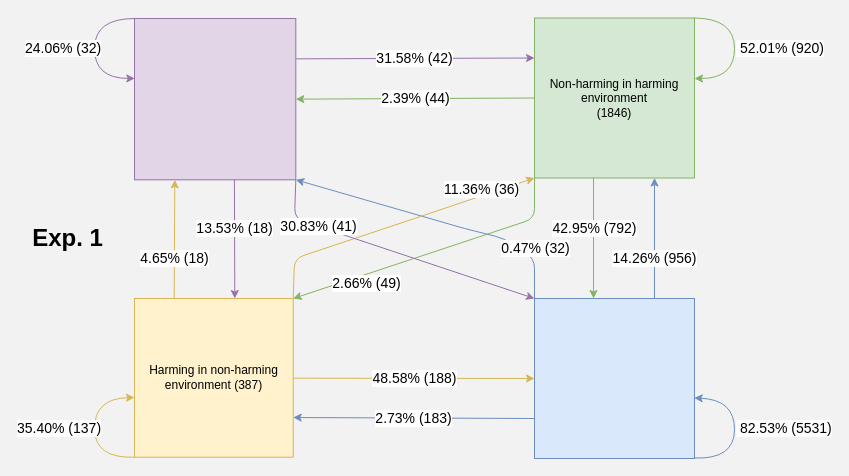
Some shapes in this 849 by 476 pixel diagram are drawn without their labels. The centre of each missing label's shape, as x and y in pixels:
Harming in harming environment (133): (x=215, y=99)
Non-harming in non-harming environment (6705): (x=614, y=378)
